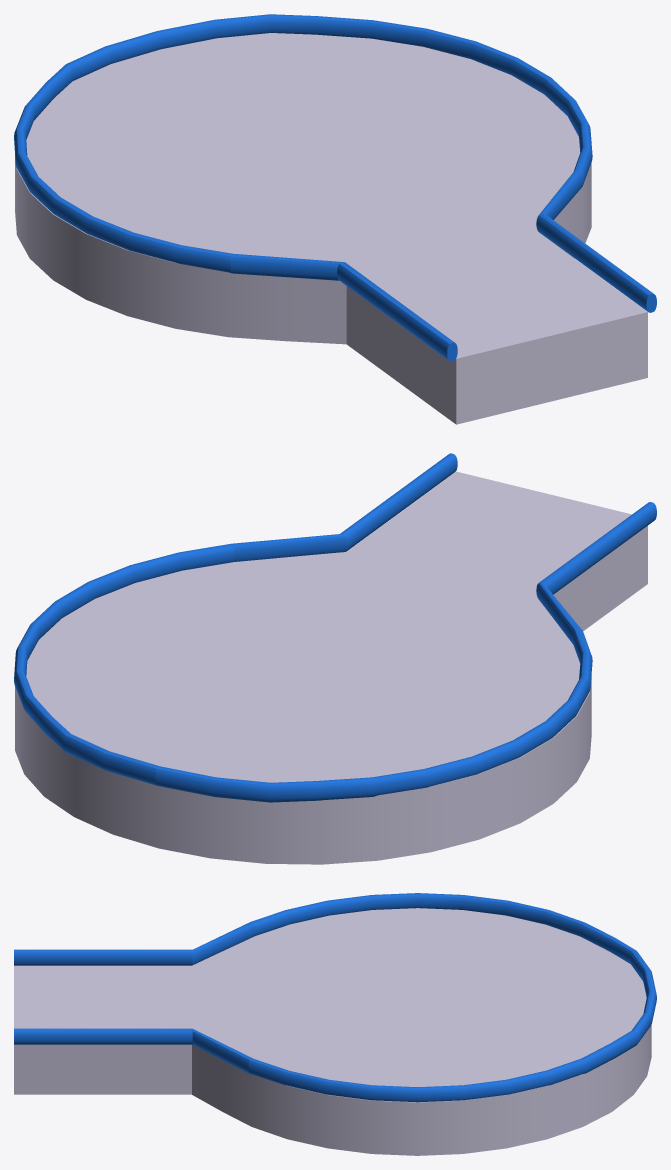
File: PlatformFinaly.fbx
The picture shows the model from 3 angles, top to bottom: view 1: azimuth 30°, elevation 25°; view 2: azimuth 150°, elevation 25°; view 3: azimuth 270°, elevation 25°; orthographic projection. The views are drawn at different scales.
Visible parts, largest first — view 1: Circle, Cube.008; view 2: Circle, Cube.008; view 3: Circle, Cube.008.
Part boxes in pixels (bbox=[...]): Circle: bbox=[15, 33, 647, 424]; Cube.008: bbox=[14, 14, 656, 361]; Circle: bbox=[15, 471, 647, 864]; Cube.008: bbox=[14, 453, 656, 802]; Circle: bbox=[14, 908, 651, 1155]; Cube.008: bbox=[14, 893, 656, 1102].
Bounding box in the file's own units: 5230 × 825 × 7167.
